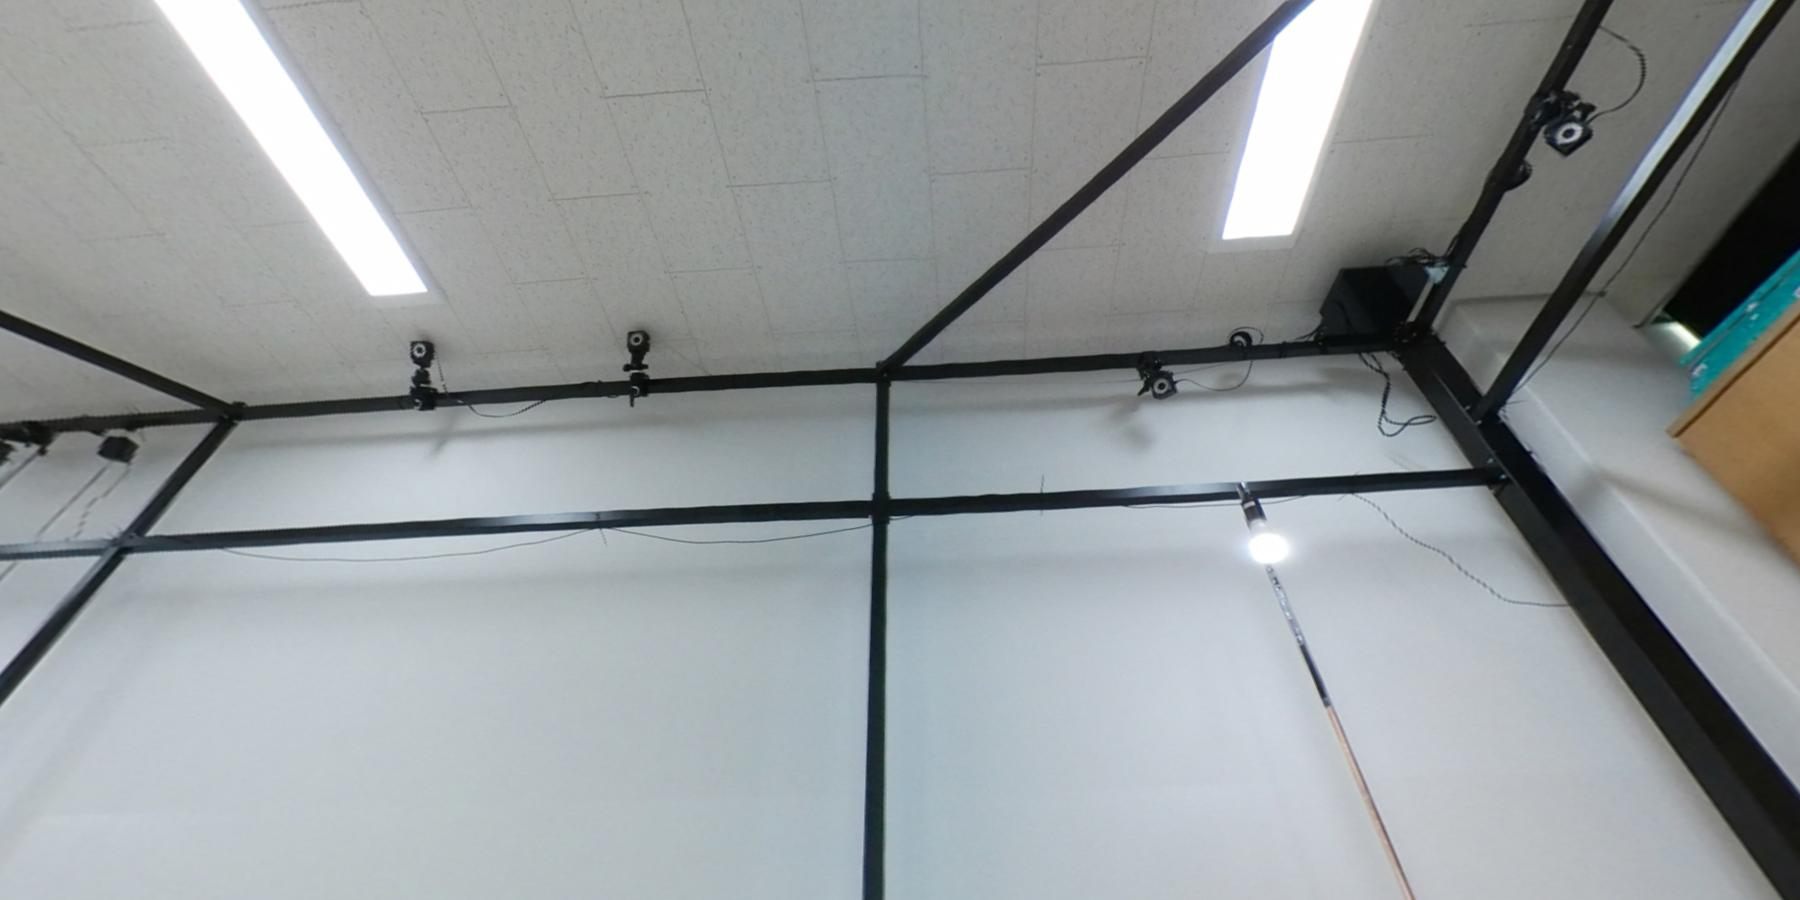PointLight1: (1232, 482, 1290, 565)
